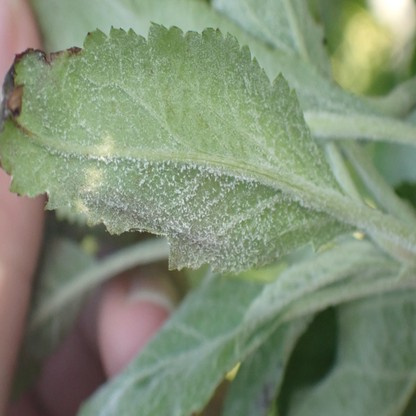powder: (1, 27, 355, 272), (100, 366, 166, 416)
